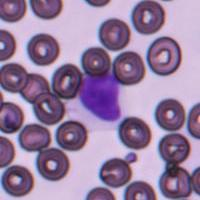M: (76, 72, 127, 125)
